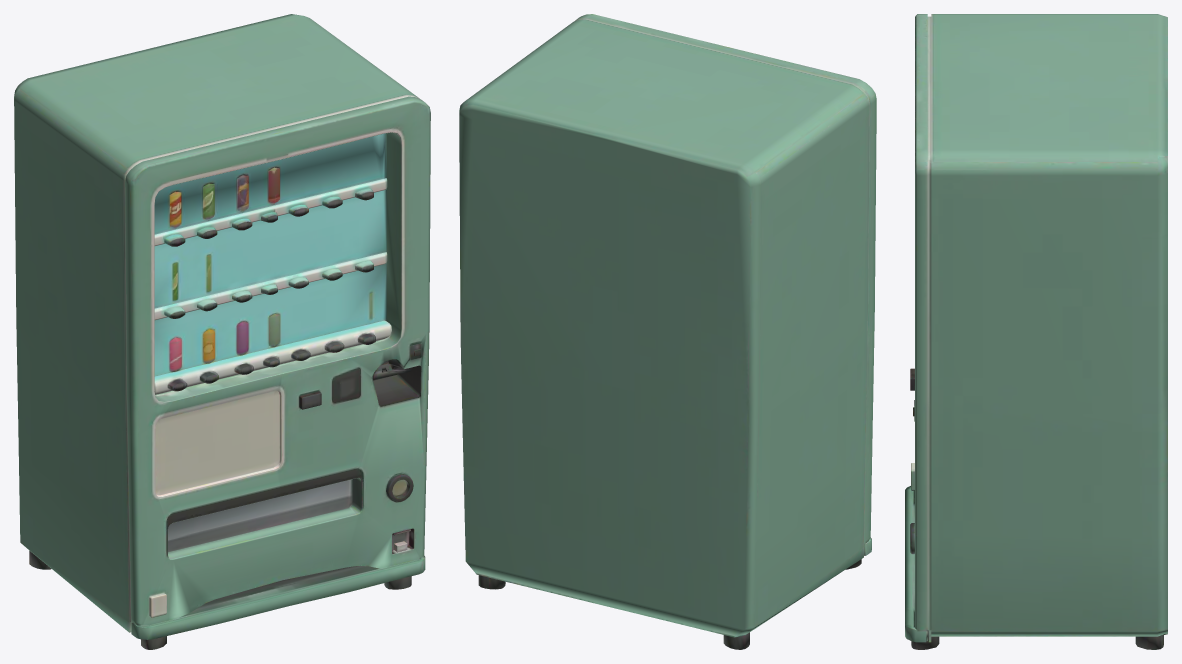
The model's file is vending_mint.glb.
3 views of the same model, side by side, from view 1: azimuth 30°, elevation 25°; view 2: azimuth 150°, elevation 25°; view 3: azimuth 270°, elevation 25° (orthographic). The views are drawn at different scales.
Visible parts, largest first — view 1: vending_mint; view 2: vending_mint; view 3: vending_mint.
Part boxes in pixels (x1,y1,x2,y2): vending_mint: [14, 14, 430, 649]; vending_mint: [459, 14, 876, 649]; vending_mint: [905, 14, 1167, 649].
Bounding box in the file's own units: 1.2 × 1.85 × 0.8793.
Materials: 1 (1 with a texture image).
